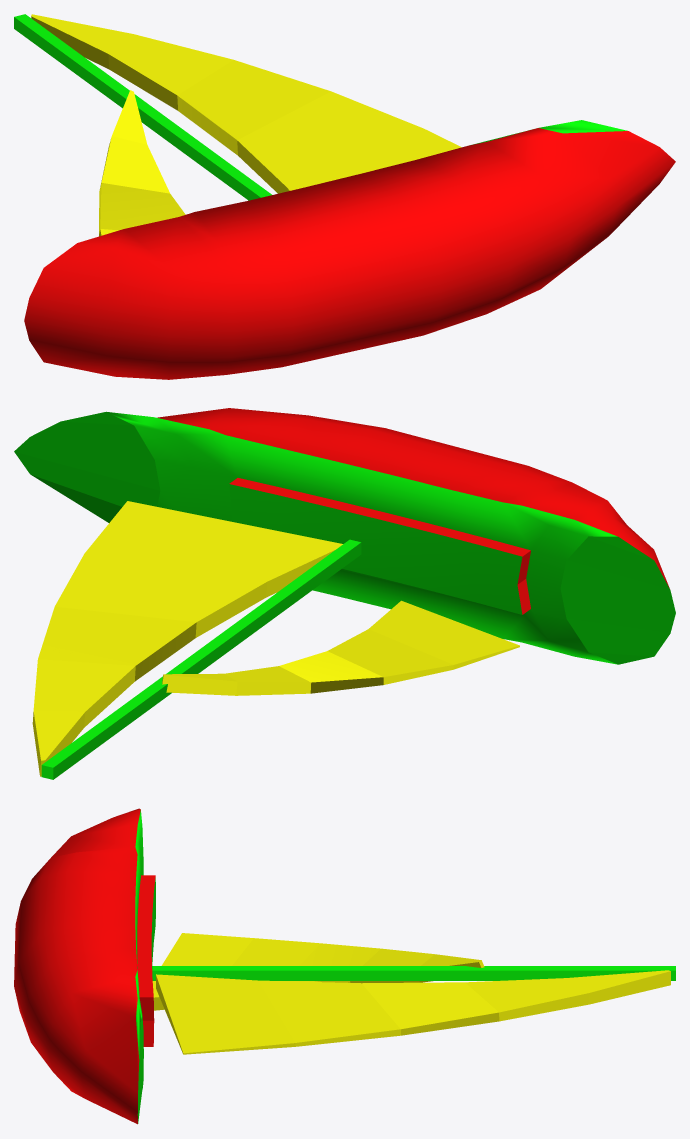
File: ship_5.FBX
The picture shows the model from 3 angles, top to bottom: view 1: azimuth 30°, elevation 25°; view 2: azimuth 150°, elevation 25°; view 3: azimuth 270°, elevation 25°; orthographic projection. The views are drawn at different scales.
Parts seen in each view (by area): view 1: ship; view 2: ship; view 3: ship.
Part boxes in pixels (x1,y1,x2,y2): ship: (14,14,675,379); ship: (14,408,675,779); ship: (14,808,675,1124).
Size of the model in its own units: 435 by 86.17 by 443.
